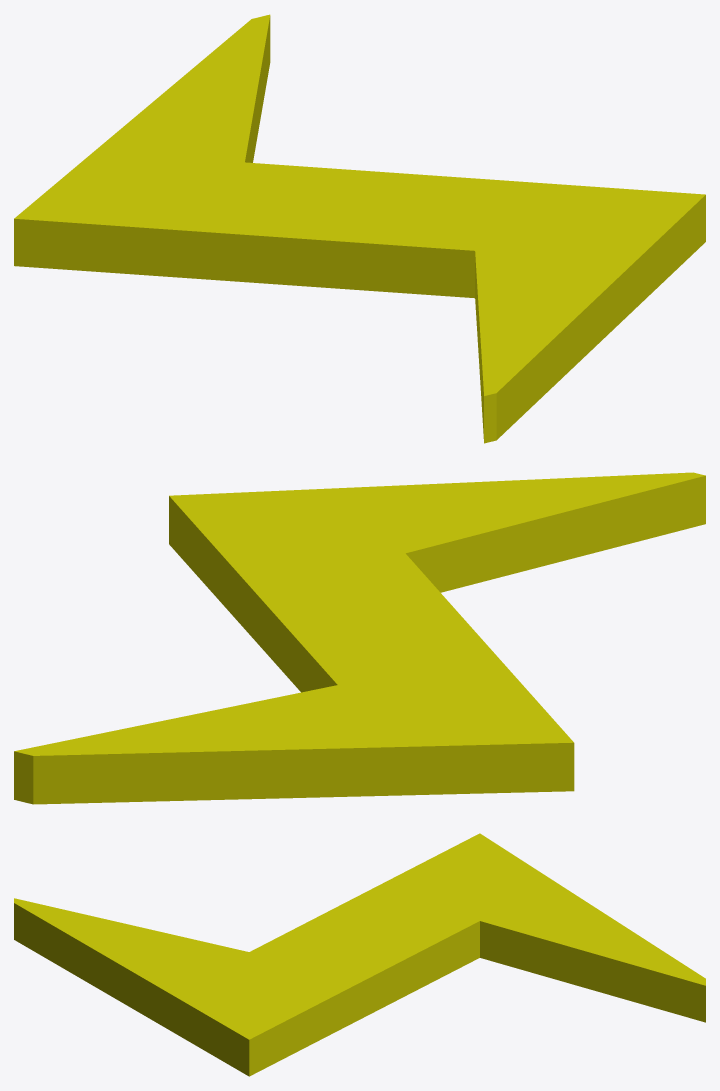
Rendered from power.fbx.
3 renders of one model, top to bottom at view 1: azimuth 30°, elevation 25°; view 2: azimuth 150°, elevation 25°; view 3: azimuth 270°, elevation 25°, orthographic. The views are drawn at different scales.
Visible parts, largest first — view 1: Cube; view 2: Cube; view 3: Cube.
Part boxes in pixels (x1,y1,x2,y2): Cube: (14, 14, 705, 443); Cube: (14, 472, 705, 804); Cube: (14, 833, 705, 1076).
Size of the model in its own units: 471 by 39.2 by 667.
